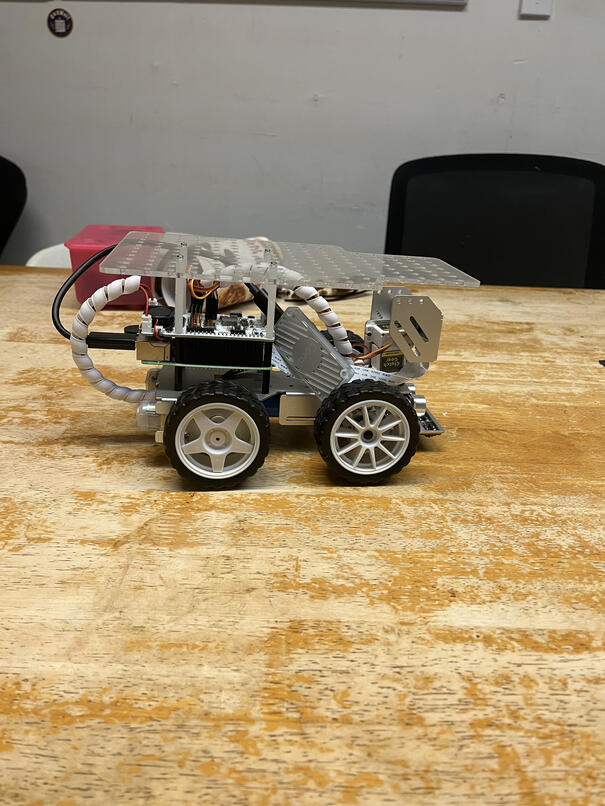vehicle: (50, 224, 486, 493)
